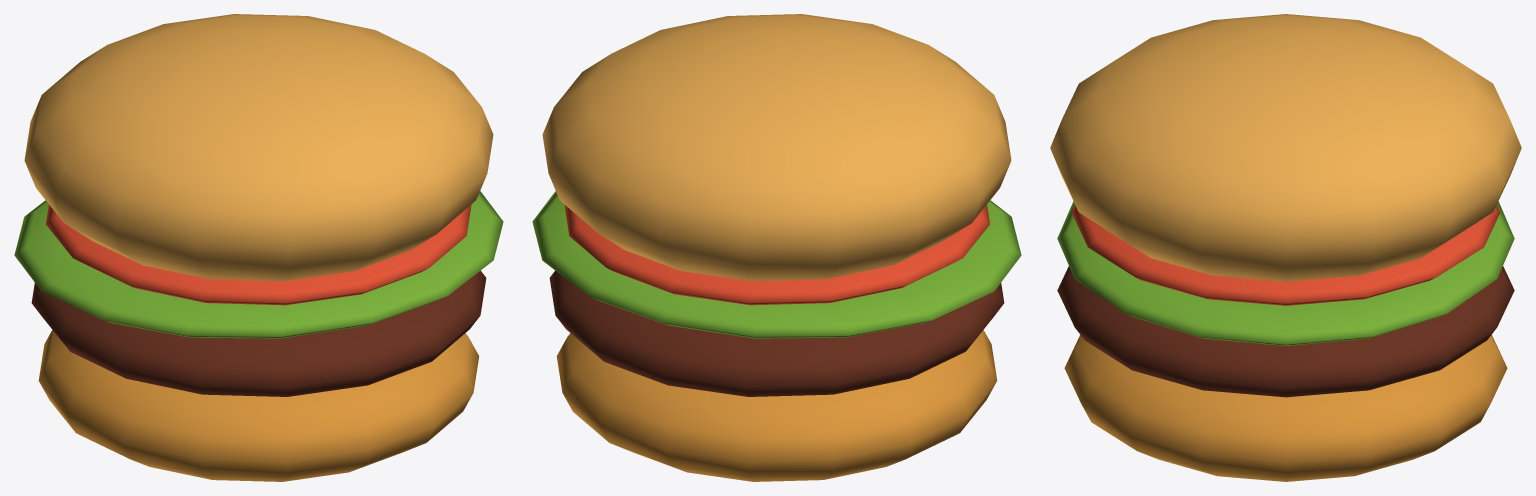
Rendered from burger.glb.
3 renders of one model, left to right at view 1: azimuth 30°, elevation 25°; view 2: azimuth 150°, elevation 25°; view 3: azimuth 270°, elevation 25°, orthographic.
Visible parts, largest first — view 1: Bun crown, Bun base, Patty, Lettuce, Tomato; view 2: Bun crown, Bun base, Patty, Lettuce, Tomato; view 3: Bun crown, Bun base, Patty, Lettuce, Tomato.
Boxes of the visible parts, x1,y1,x2,y2 form: Bun crown: [24, 14, 493, 281]; Bun base: [38, 330, 479, 481]; Patty: [31, 270, 486, 396]; Lettuce: [14, 191, 503, 338]; Tomato: [46, 204, 471, 305]; Bun crown: [542, 14, 1011, 281]; Bun base: [556, 330, 997, 481]; Patty: [549, 270, 1004, 396]; Lettuce: [532, 191, 1021, 338]; Tomato: [564, 204, 989, 305]; Bun crown: [1050, 14, 1521, 281]; Bun base: [1064, 335, 1507, 481]; Patty: [1057, 266, 1514, 397]; Lettuce: [1057, 201, 1514, 345]; Tomato: [1071, 205, 1500, 305].
Size of the model in its own units: 0.7 by 0.58 by 0.66.
